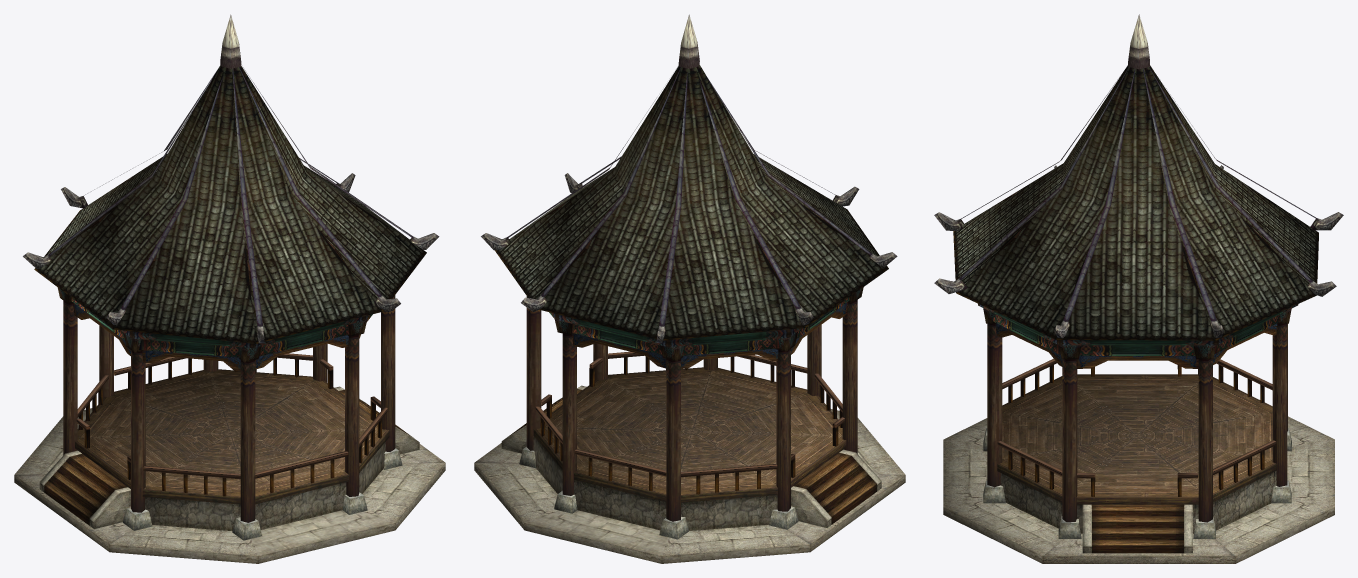
The model's file is b1-001-house3_lod_01.fbx.
3 renders of one model, left to right at view 1: azimuth 30°, elevation 25°; view 2: azimuth 150°, elevation 25°; view 3: azimuth 270°, elevation 25°, orthographic.
Visible parts, largest first — view 1: b1-001-house3; view 2: b1-001-house3; view 3: b1-001-house3.
Part boxes in pixels (bbox=[...]): b1-001-house3: bbox=[14, 14, 445, 563]; b1-001-house3: bbox=[474, 14, 905, 563]; b1-001-house3: bbox=[934, 14, 1343, 563].
Bounding box in the file's own units: 8.16 × 10.72 × 8.52.
